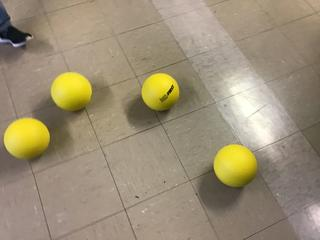power_cell: (3, 113, 53, 164), (213, 141, 260, 190), (50, 70, 94, 114), (139, 71, 181, 113)
